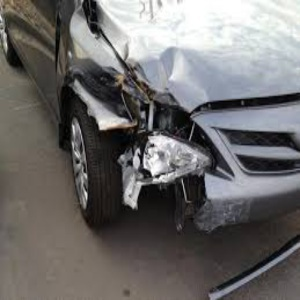bumper: (158, 174, 254, 233)
